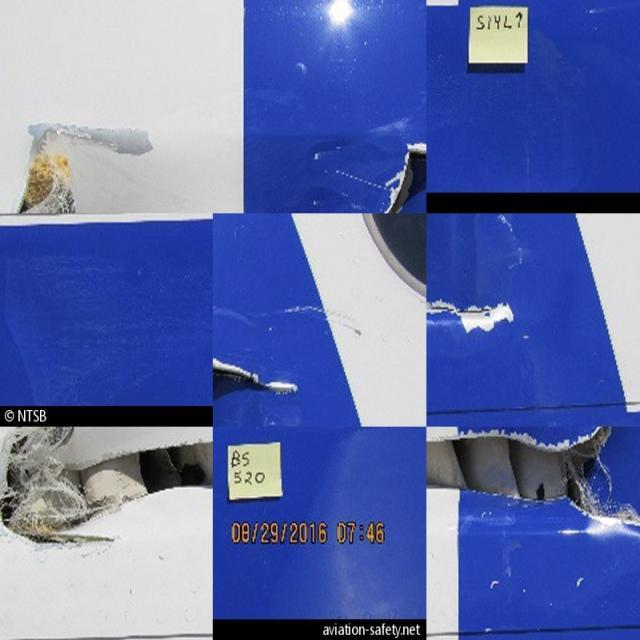crack: (436, 289, 493, 335)
